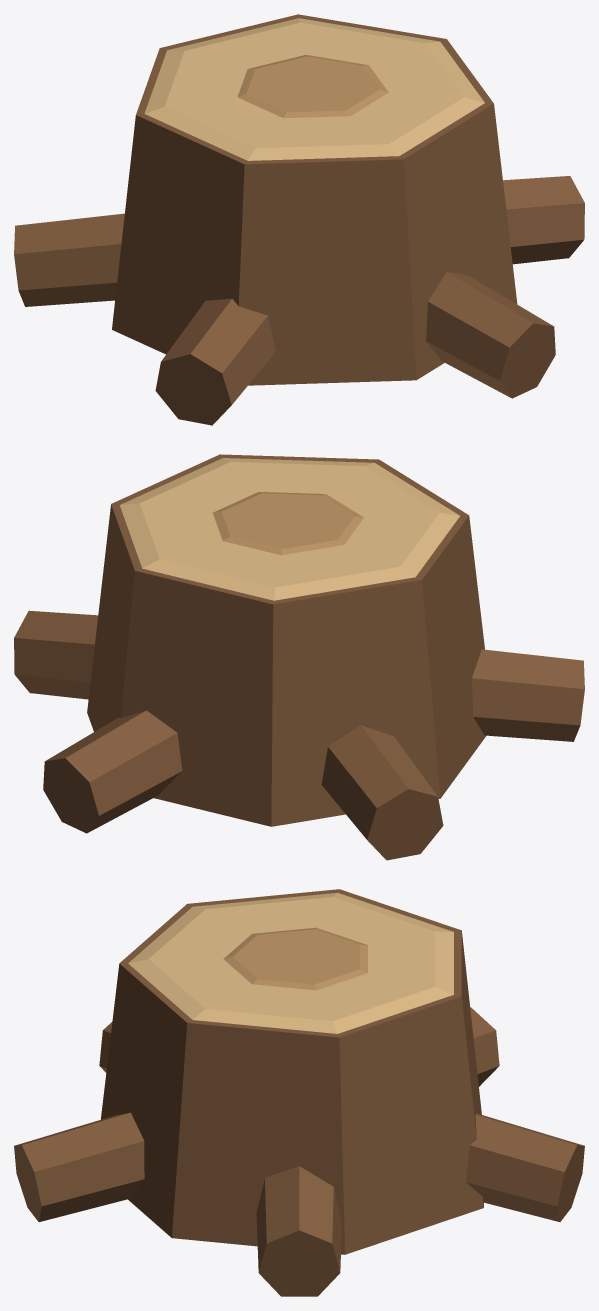
The model's file is CC_Stump.fbx.
3 views of the same model, one above another, from view 1: azimuth 30°, elevation 25°; view 2: azimuth 150°, elevation 25°; view 3: azimuth 270°, elevation 25° (orthographic). The views are drawn at different scales.
Visible parts, largest first — view 1: Stump, Cut face, Root.014, Root.013, Root.012, Heartwood, Root.010; view 2: Stump, Cut face, Root.011, Root.012, Root.013, Heartwood, Root.010; view 3: Stump, Cut face, Root.014, Root.010, Root.011, Heartwood, Root.012.
Part boxes in pixels (<box>): Stump: <box>112,14,517,385</box>; Cut face: <box>144,18,484,160</box>; Root.014: <box>426,272,555,398</box>; Root.013: <box>155,298,275,425</box>; Root.012: <box>14,213,124,306</box>; Heartwood: <box>237,55,388,118</box>; Root.010: <box>503,176,584,264</box>; Stump: <box>87,454,486,826</box>; Cut face: <box>119,458,459,600</box>; Root.011: <box>43,710,182,833</box>; Root.012: <box>321,725,443,860</box>; Root.013: <box>472,649,584,741</box>; Heartwood: <box>213,492,363,555</box>; Root.010: <box>14,610,98,699</box>; Stump: <box>101,889,483,1254</box>; Cut face: <box>128,892,453,1033</box>; Root.014: <box>14,1112,144,1221</box>; Root.010: <box>256,1166,341,1296</box>; Root.011: <box>466,1113,584,1221</box>; Heartwood: <box>223,927,367,990</box>; Root.012: <box>470,1007,499,1086</box>.
Bounding box in the file's own units: 1.15 × 0.5134 × 1.2.
